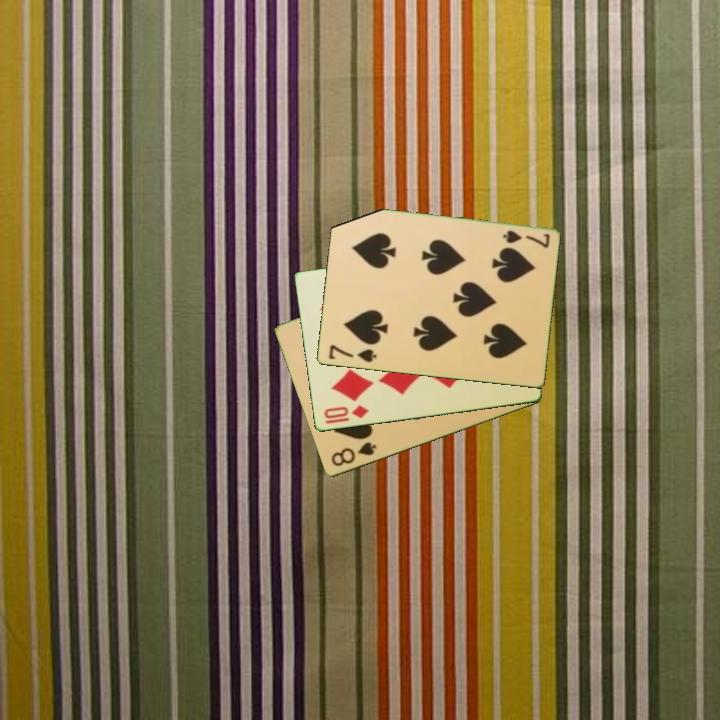10d: (320, 402, 371, 422)
7s: (325, 342, 379, 366), (499, 227, 552, 251)
8s: (327, 439, 379, 470)
